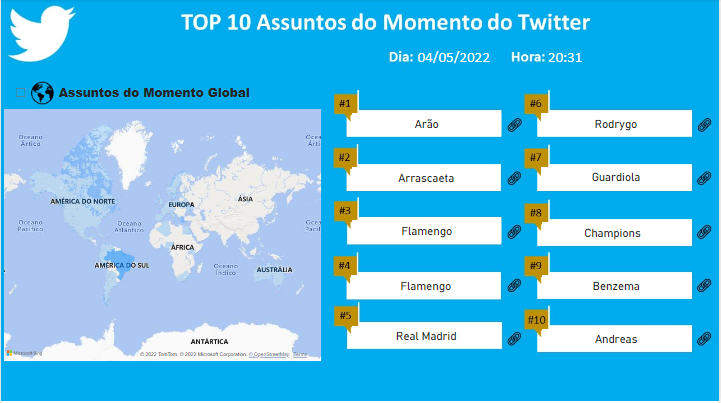

Layout of this report page (visuals, bound fields, positions):
{"tool":"powerbi","page":{"name":"Página 1","canvas":[1280,720],"ordinal":0},"visuals":[{"type":"filledMap","fields":{"Category":["trends.País"]},"box":[0,190.7,575.6,459.8],"z":0},{"type":"card","fields":{"Values":["Min(trends.name)"]},"box":[625.5,203.2,265.5,39.2],"z":1000},{"type":"card","fields":{"Values":["Min(trends.name)"]},"box":[625.5,299.4,263.8,39.2],"z":2000},{"type":"card","fields":{"Values":["Min(trends.name)"]},"box":[623.8,491.9,265.5,39.2],"z":3000},{"type":"card","fields":{"Values":["Min(trends.name)"]},"box":[625.5,393.9,265.5,39.2],"z":4000},{"type":"card","fields":{"Values":["Min(trends.name)"]},"box":[625.5,582.8,263.8,37.4],"z":5000},{"type":"card","fields":{"Values":["Min(trends.name)"]},"box":[962.4,203.2,267.3,39.2],"z":6000},{"type":"card","fields":{"Values":["Min(trends.name)"]},"box":[962.4,299.4,267.3,37.4],"z":7000},{"type":"card","fields":{"Values":["Min(trends.name)"]},"box":[964.2,491.9,263.8,39.2],"z":8000},{"type":"card","fields":{"Values":["Min(trends.name)"]},"box":[964.2,397.4,251.3,39.2],"z":9000},{"type":"card","fields":{"Values":["Min(trends.name)"]},"box":[964.2,588.1,263.8,37.4],"z":10000},{"type":"slicer","fields":{"Values":["trends.País"]},"box":[13.9,146.1,41.7,40],"z":11000},{"type":"textbox","box":[98,146.1,388.5,46.3],"z":12000},{"type":"image","box":[43.4,142.6,60.9,50.4],"z":13000},{"type":"actionButton","box":[890.4,193,50.4,52.2],"z":14000},{"type":"actionButton","box":[890.4,290.4,50.4,53.9],"z":15000},{"type":"actionButton","box":[890.4,384.3,50.4,52.2],"z":16000},{"type":"actionButton","box":[890.4,481.7,50.4,52.2],"z":17000},{"type":"actionButton","box":[890.4,570.4,50.4,53.9],"z":18000},{"type":"actionButton","box":[1227.8,193,50.4,52.2],"z":19000},{"type":"actionButton","box":[1227.8,290.4,50.4,53.9],"z":20000},{"type":"actionButton","box":[1227.8,387.8,50.4,52.2],"z":21000},{"type":"actionButton","box":[1227.8,483.5,50.4,52.2],"z":22000},{"type":"actionButton","box":[1227.8,577.4,50.4,52.2],"z":23000},{"type":"card","fields":{"Values":["Min(trends.data.1)"]},"box":[723.6,87.3,165.7,32.1],"z":23001},{"type":"card","fields":{"Values":["Min(trends.data.2)"]},"box":[964.2,87.3,82,32.1],"z":23002}]}

Visuals, with their boxes in screenshot pixels (x1, y1, x2, y2), scaled from the page's 1280x720 canvas onto the 721x403 screenshot:
filledMap - trends.País: box=[0, 107, 324, 364]
card - Min(trends.name): box=[352, 114, 502, 136]
card - Min(trends.name): box=[352, 168, 501, 190]
card - Min(trends.name): box=[351, 275, 501, 297]
card - Min(trends.name): box=[352, 220, 502, 242]
card - Min(trends.name): box=[352, 326, 501, 347]
card - Min(trends.name): box=[542, 114, 693, 136]
card - Min(trends.name): box=[542, 168, 693, 189]
card - Min(trends.name): box=[543, 275, 692, 297]
card - Min(trends.name): box=[543, 222, 685, 244]
card - Min(trends.name): box=[543, 329, 692, 350]
slicer - trends.País: box=[8, 82, 31, 104]
textbox: box=[55, 82, 274, 108]
image: box=[24, 80, 59, 108]
actionButton: box=[502, 108, 530, 137]
actionButton: box=[502, 163, 530, 193]
actionButton: box=[502, 215, 530, 244]
actionButton: box=[502, 270, 530, 299]
actionButton: box=[502, 319, 530, 349]
actionButton: box=[692, 108, 720, 137]
actionButton: box=[692, 163, 720, 193]
actionButton: box=[692, 217, 720, 246]
actionButton: box=[692, 271, 720, 300]
actionButton: box=[692, 323, 720, 352]
card - Min(trends.data.1): box=[408, 49, 501, 67]
card - Min(trends.data.2): box=[543, 49, 589, 67]
